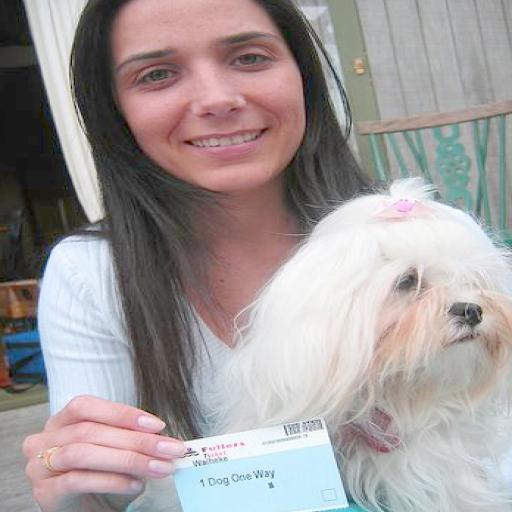dog_face: (273, 206, 512, 367)
